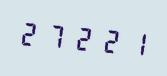one: (122, 23, 147, 61)
seven: (44, 16, 69, 54)
two: (18, 14, 43, 52), (70, 18, 95, 56), (96, 21, 121, 59)
